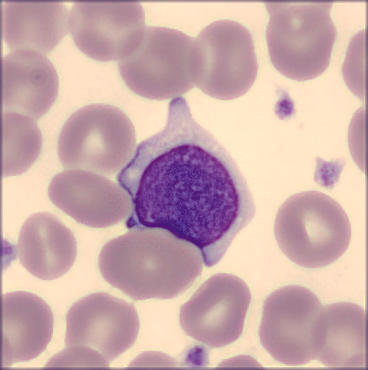WBC: (116, 94, 266, 273)
